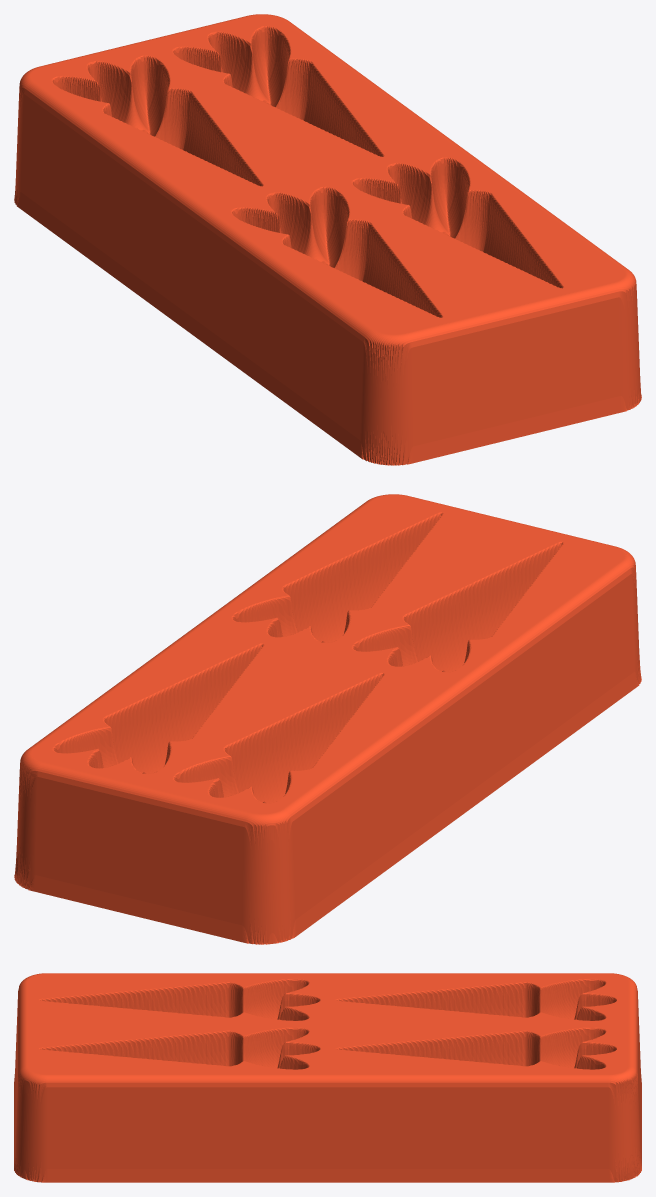
File: mold.glb
3 views of the same model, one above another, from view 1: azimuth 30°, elevation 25°; view 2: azimuth 150°, elevation 25°; view 3: azimuth 270°, elevation 25° (orthographic). The views are drawn at different scales.
Parts seen in each view (by area): view 1: geometry_0; view 2: geometry_0; view 3: geometry_0.
Part boxes in pixels (x1,y1,x2,y2): geometry_0: [14, 14, 641, 465]; geometry_0: [14, 494, 641, 944]; geometry_0: [14, 973, 641, 1182].
Bounding box in the file's own units: 0.0726 × 0.031 × 0.1721.
